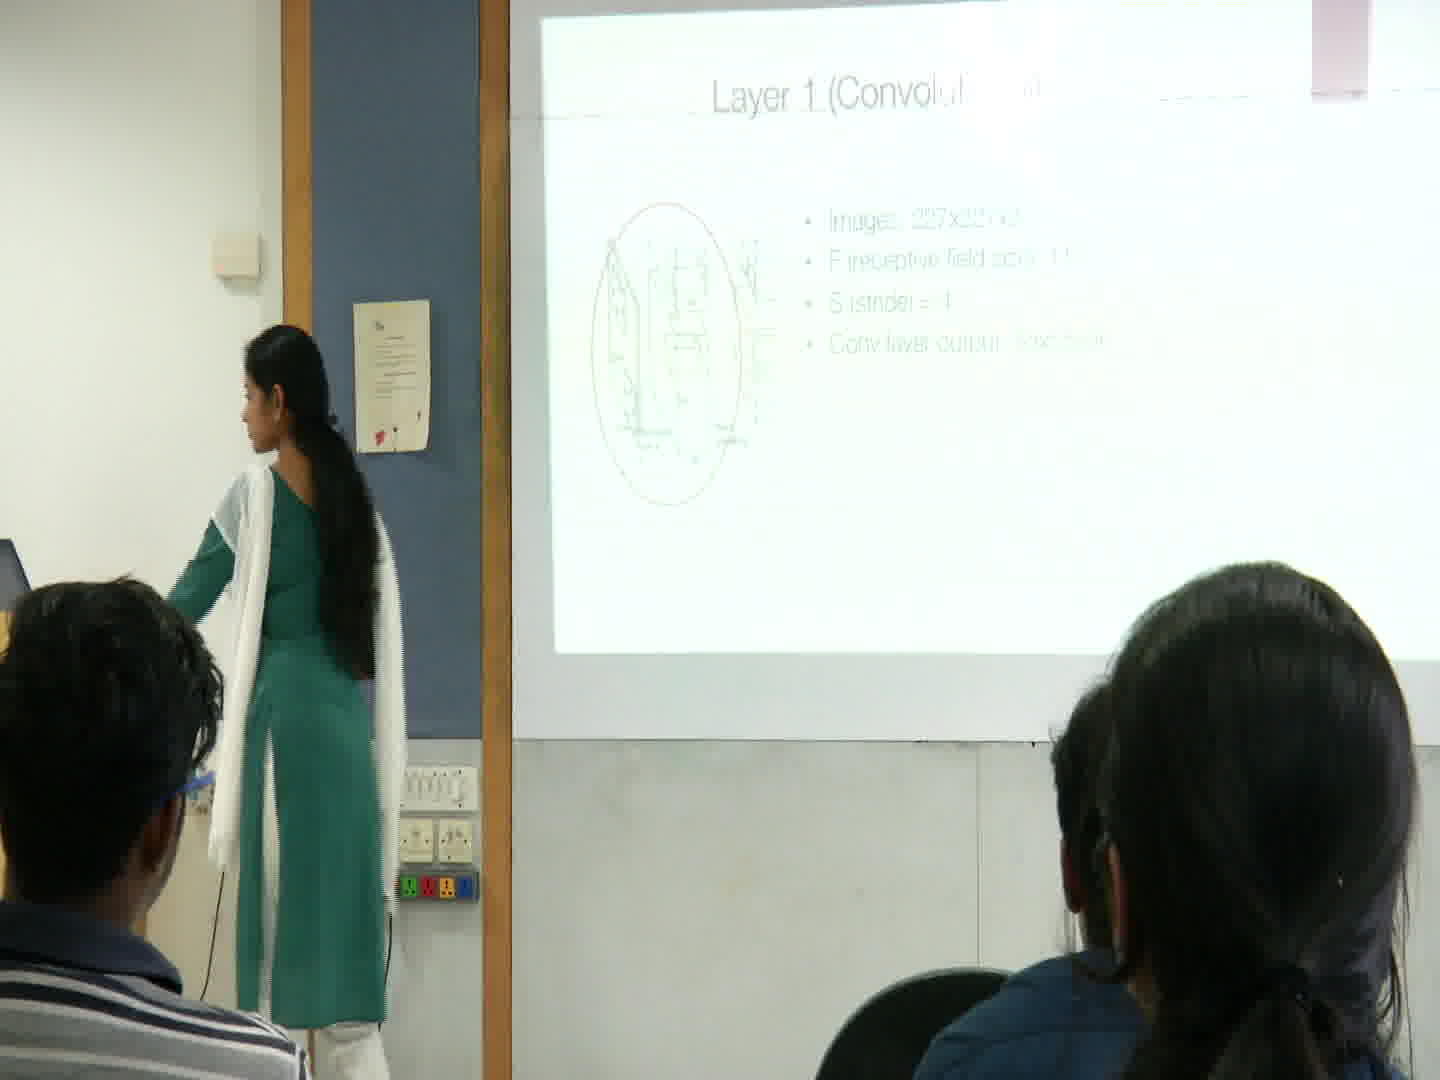slide: (545, 1, 1440, 660)
